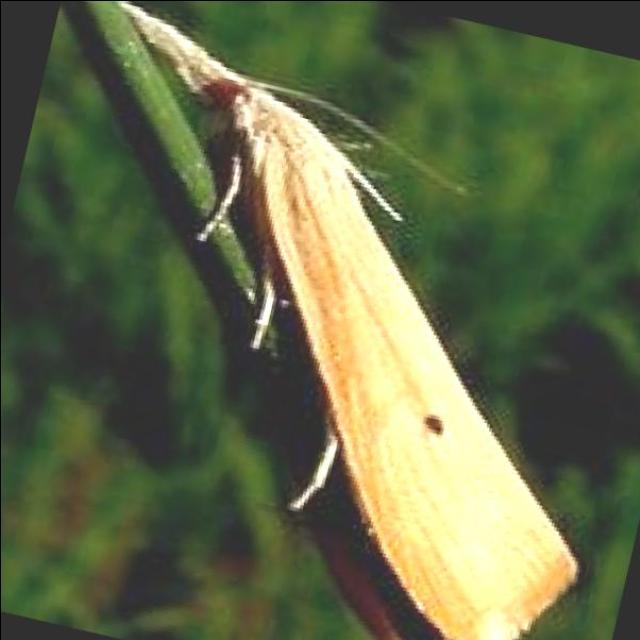stem borer: (120, 0, 576, 640), (198, 147, 242, 239)
